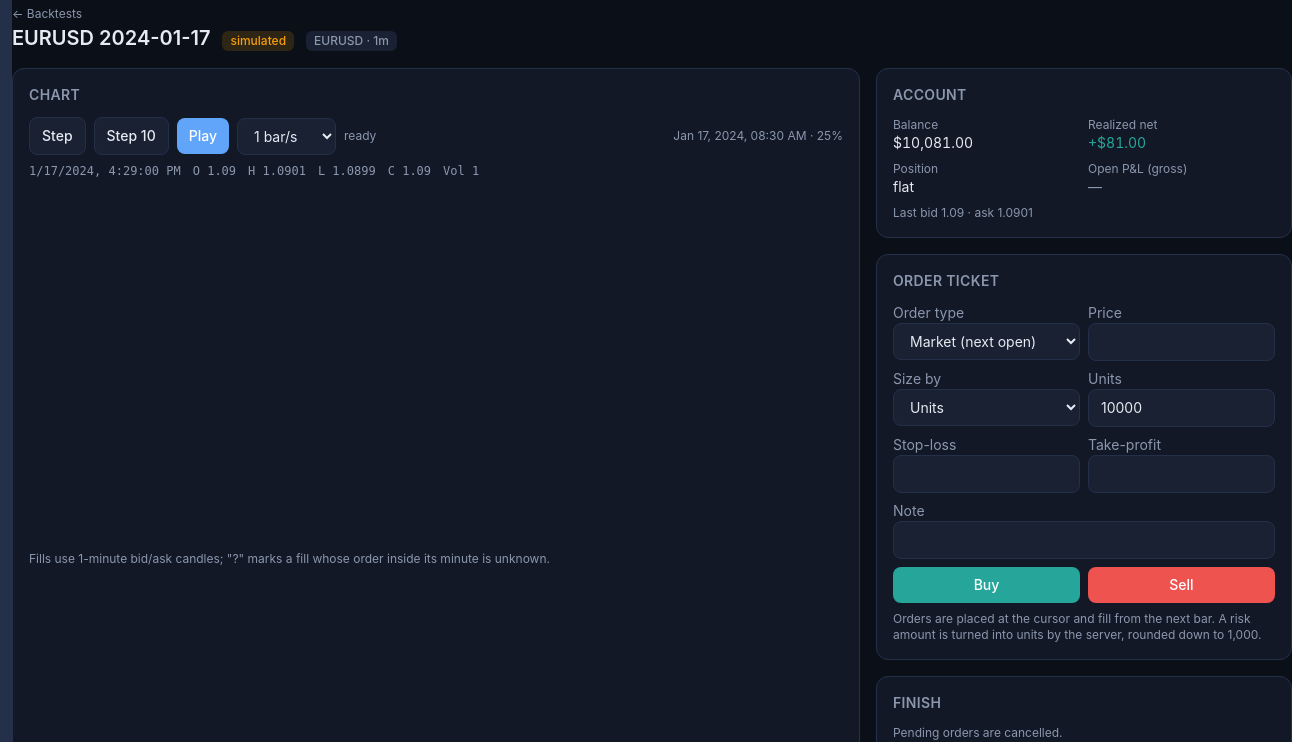
Scenario: backtest session › steps forward, appends only the new bars and reports fills
Click the button "Step": (57, 136) [29,117,86,155]
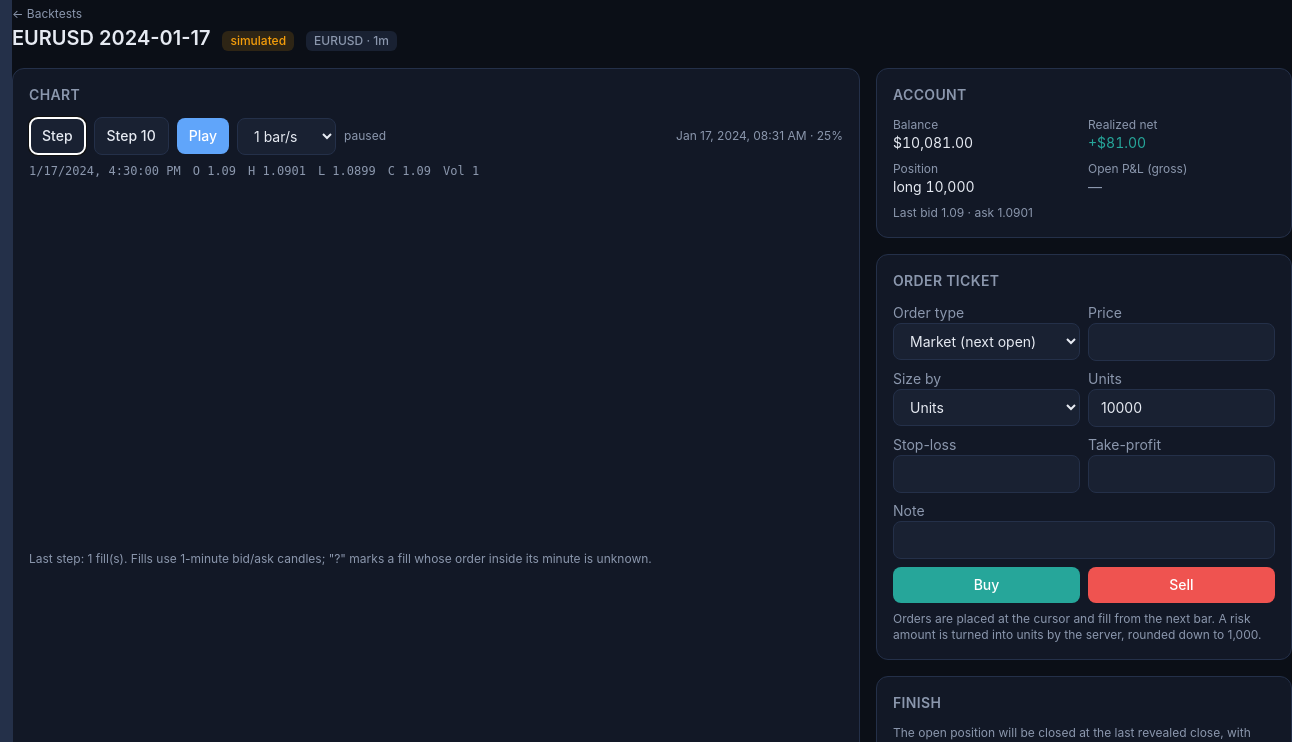
Now the element with test id "backtest-account" shows "long 10,000", box [893,178,975,195]
Now the text "Last step: 1 fill(s)" is shown, box [29,551,131,566]
